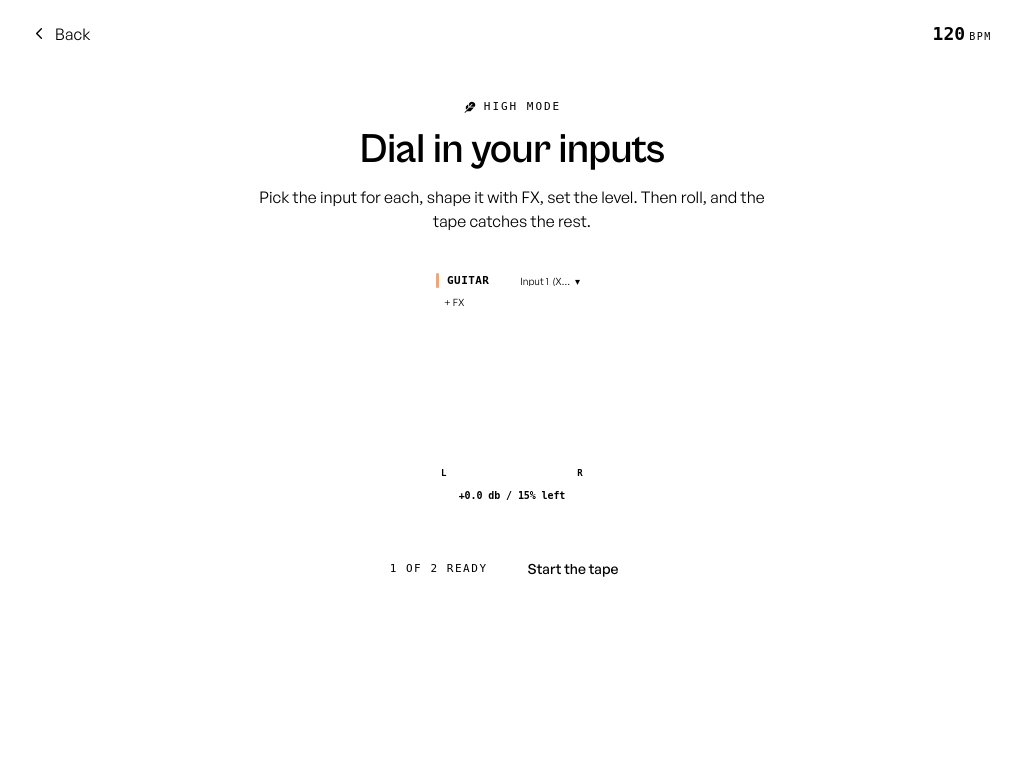
Test: HighMode — setup (soundcheck) › starts the tape from the setup screen
The image size is (1024, 768).
What coordinates should you click on to do the following:
click the button "Start the tape"
I would click on:
 (573, 569)
Its box is x1=512 y1=551 x2=634 y2=587.
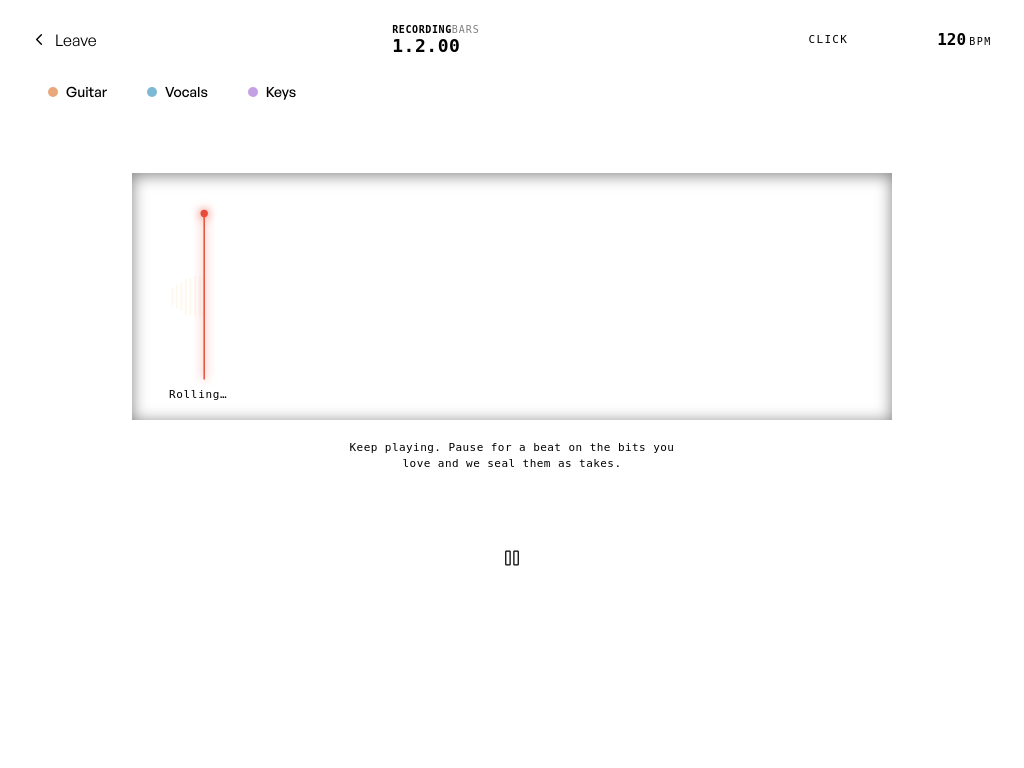
Now the text "listening for your idea" is shown, box x1=169 y1=388 x2=227 y2=401
